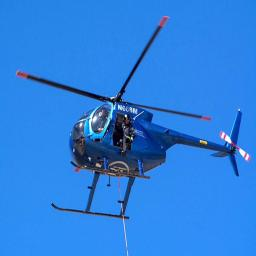helicopter: (17, 17, 247, 221)
